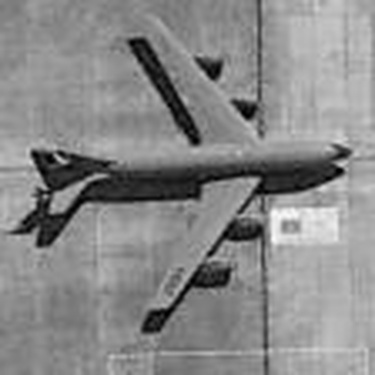airplane: (13, 6, 365, 330)
